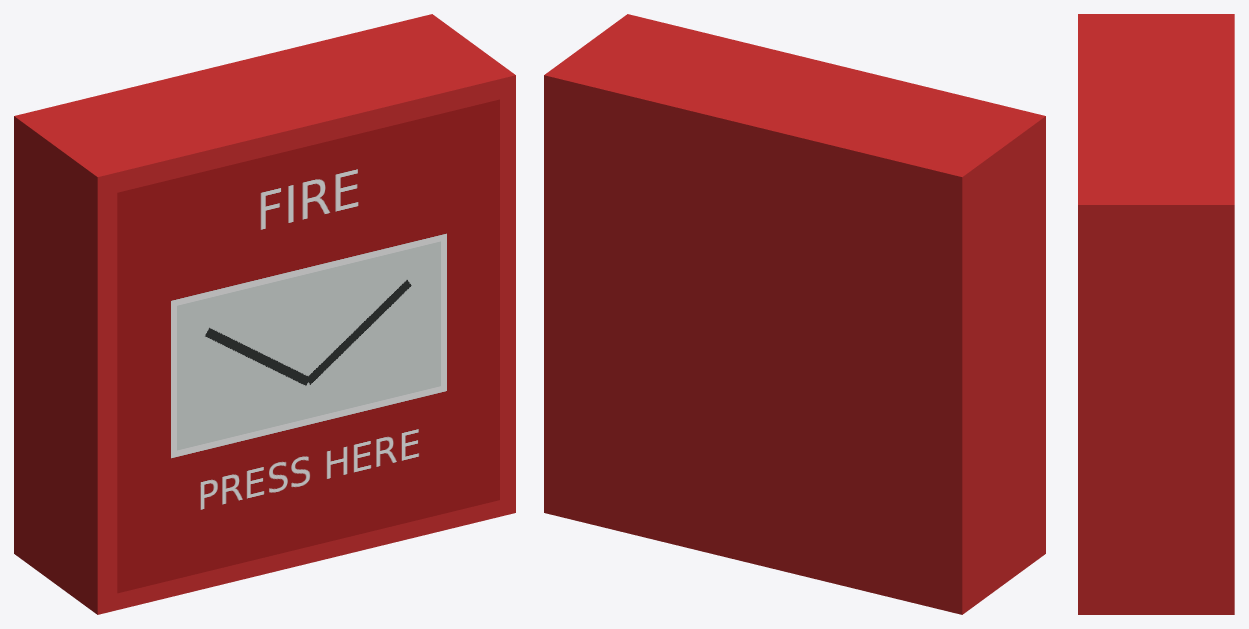
The model's file is 13_wall_fire_call_point.glb.
3 renders of one model, left to right at view 1: azimuth 30°, elevation 25°; view 2: azimuth 150°, elevation 25°; view 3: azimuth 270°, elevation 25°, orthographic. The views are drawn at different scales.
Parts seen in each view (by area): view 1: Sign_Face, Call_point_body; view 2: Call_point_body; view 3: Call_point_body.
Boxes of the visible parts, x1,y1,x2,y2 form: Sign_Face: [117, 99, 499, 593]; Call_point_body: [14, 14, 515, 614]; Call_point_body: [544, 14, 1045, 614]; Call_point_body: [1078, 14, 1234, 614].
Size of the model in its own units: 0.13 by 0.13 by 0.046.
2 materials, 1 textured.
